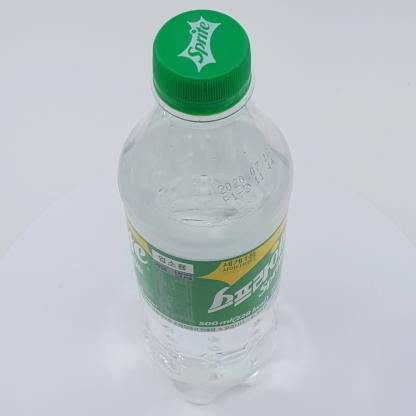-------500ML: (117, 10, 294, 405)
